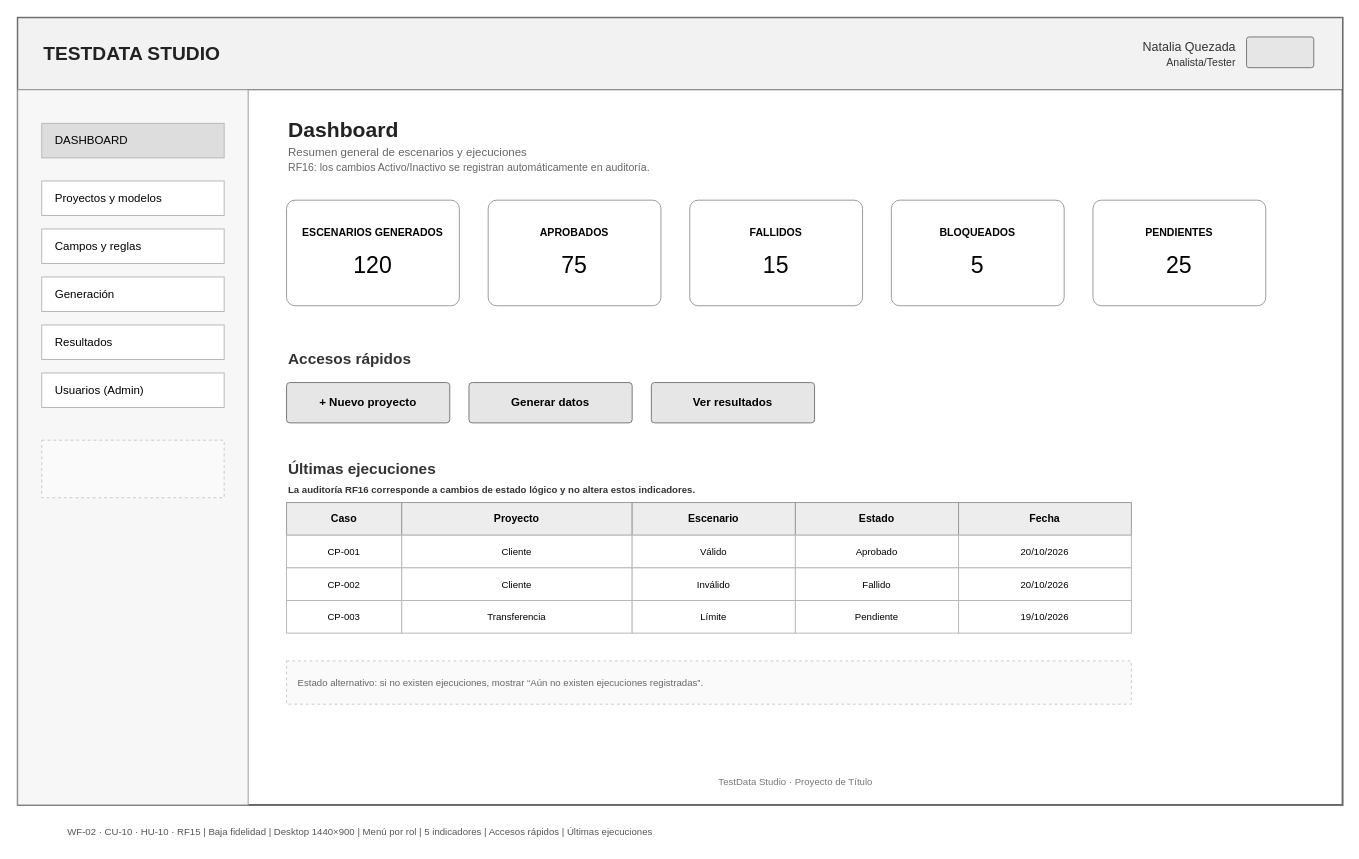
This 1359x859 diagram has some shape labels left out. Here are the shapes that lost their labels. From the top down, the centre of each, then its label:
At (1280,52): "SALIR".
At (132,468): "El menú se ajustará según el perfil del usuario".
